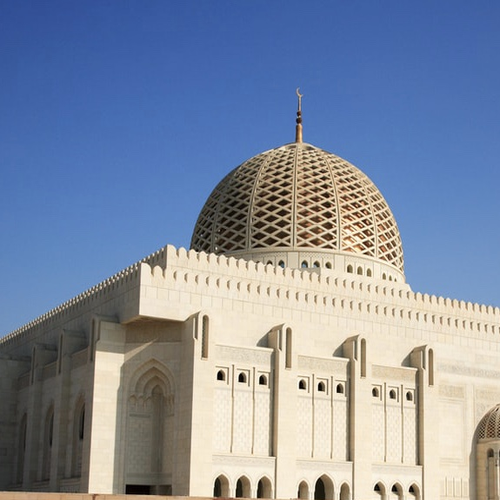Mosque: (5, 86, 488, 492)
